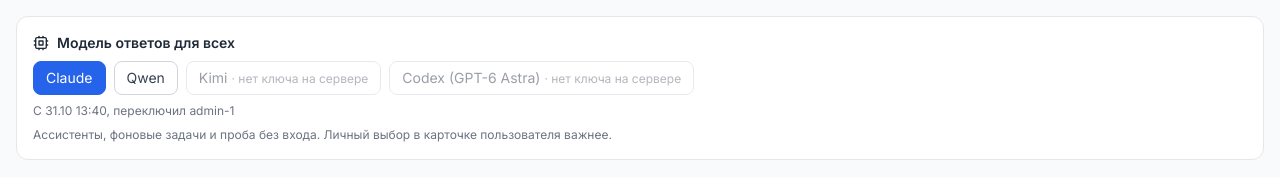
GlobalLlmProviderControl › уход с Claude — согласие: POST и событие смены
Step 1. Click the radio button labelled "Qwen" → {"x": 146, "y": 78}, box [114, 61, 178, 95]
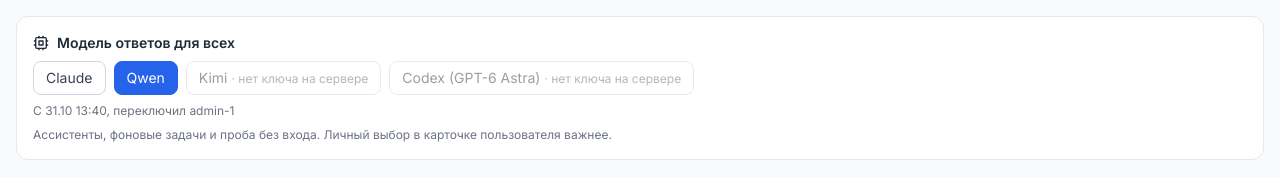
Result: the radio button labelled "Qwen" is checked at [114, 61, 178, 95]
